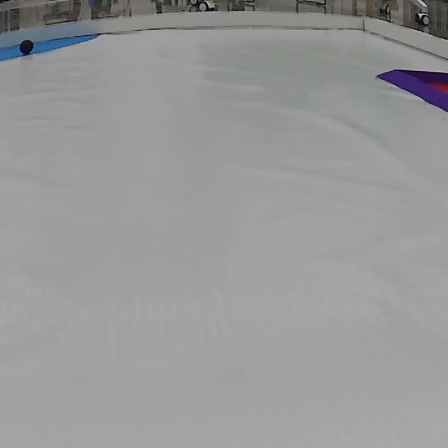black: (18, 41, 35, 52)
blue_base: (0, 31, 101, 63)
red_aim: (376, 63, 448, 108)
